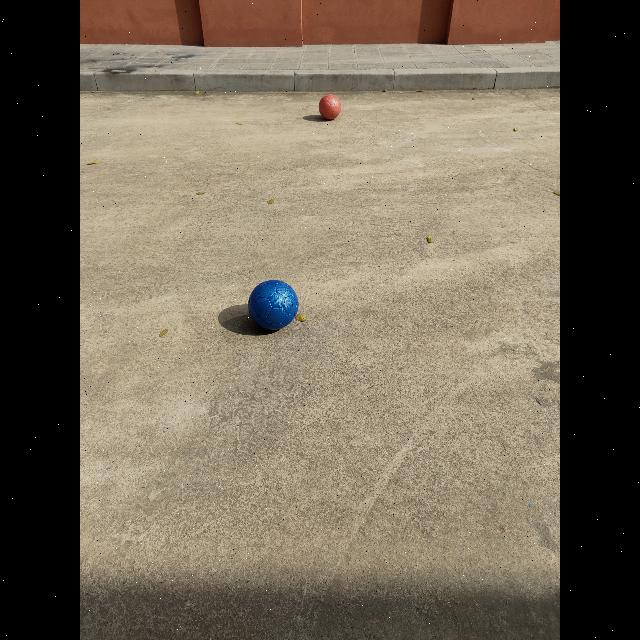B: (248, 280, 299, 330)
R: (319, 94, 341, 120)
